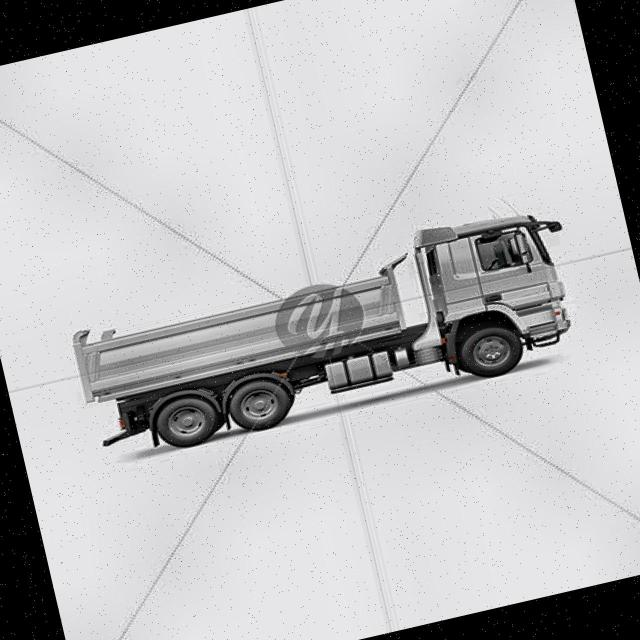dump_truck: (53, 186, 597, 478)
